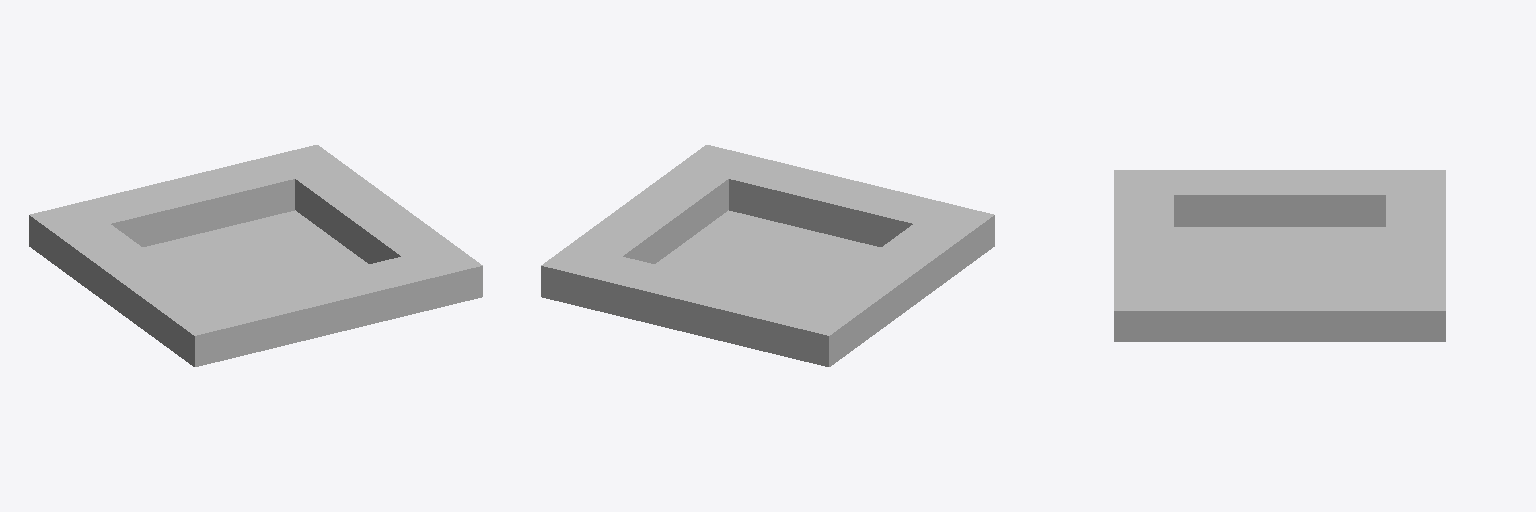
The model's file is Terrain.obj.
3 renders of one model, left to right at view 1: azimuth 30°, elevation 25°; view 2: azimuth 150°, elevation 25°; view 3: azimuth 270°, elevation 25°, orthographic.
Parts seen in each view (by area): view 1: Terrain_LowPoly; view 2: Terrain_LowPoly; view 3: Terrain_LowPoly.
Part boxes in pixels (x1,y1,x2,y2): Terrain_LowPoly: (29, 145, 482, 366); Terrain_LowPoly: (541, 145, 994, 366); Terrain_LowPoly: (1114, 170, 1445, 341).
Size of the model in its own units: 584 by 61 by 581.